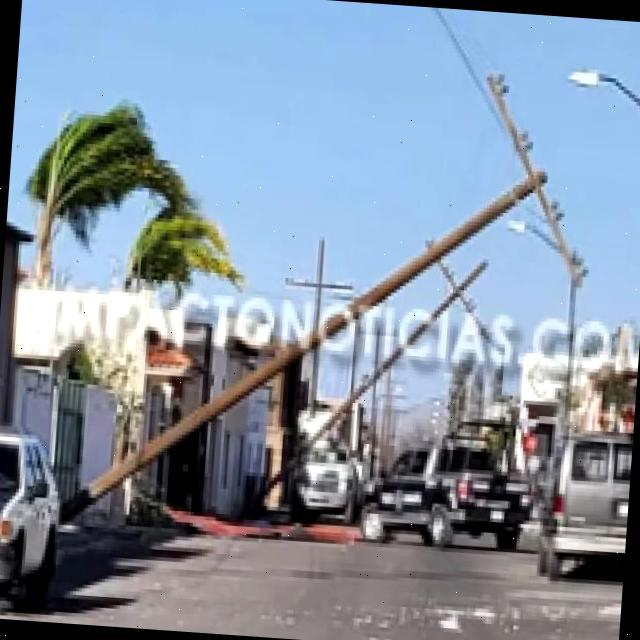Broken Pole: (58, 65, 590, 523), (254, 238, 506, 502)
